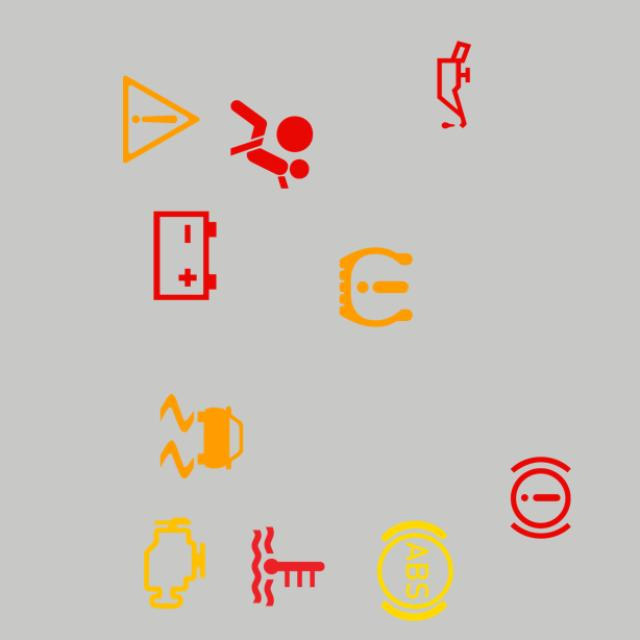Anti Lock Braking System: (361, 516, 470, 625)
Braking System Issue: (486, 443, 595, 552)
Charging System Issue: (130, 201, 240, 311)
Check Engine: (120, 509, 229, 618)
Electronic Stability Problem -ESP-: (147, 381, 256, 491)
Engine Overheating Warning Light: (233, 512, 343, 621)
Low Engine Oil Warning Light: (399, 30, 509, 140)
Low Tire Pressure Warning Light: (321, 232, 431, 342)
Master warning light: (106, 65, 216, 174)
SRS-Airbag: (217, 90, 326, 199)
